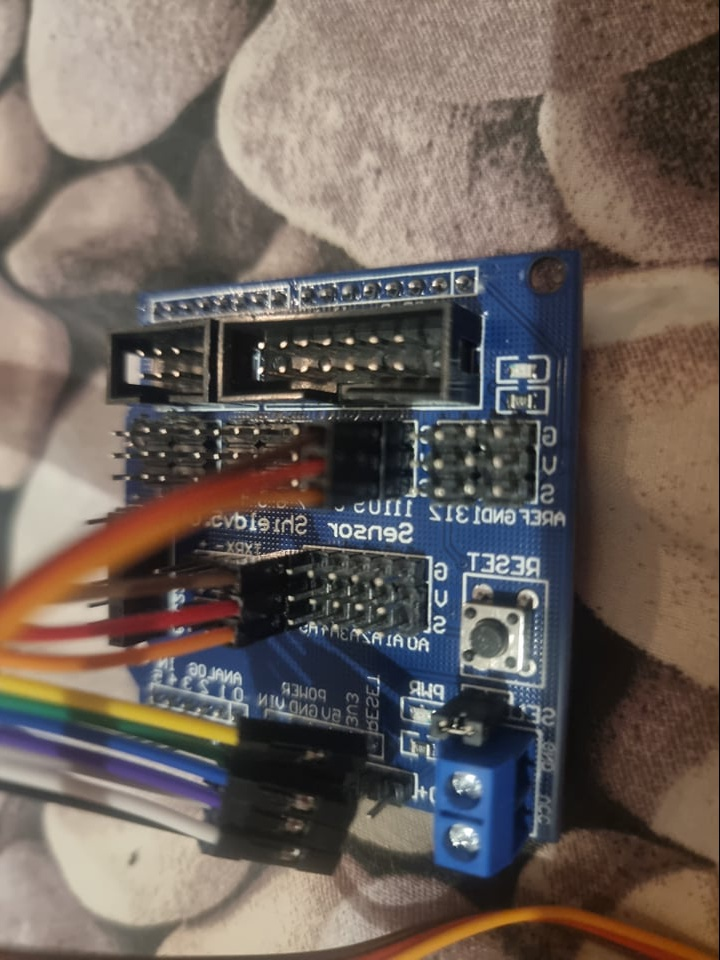5V EXPANSION: (100, 248, 584, 880)
